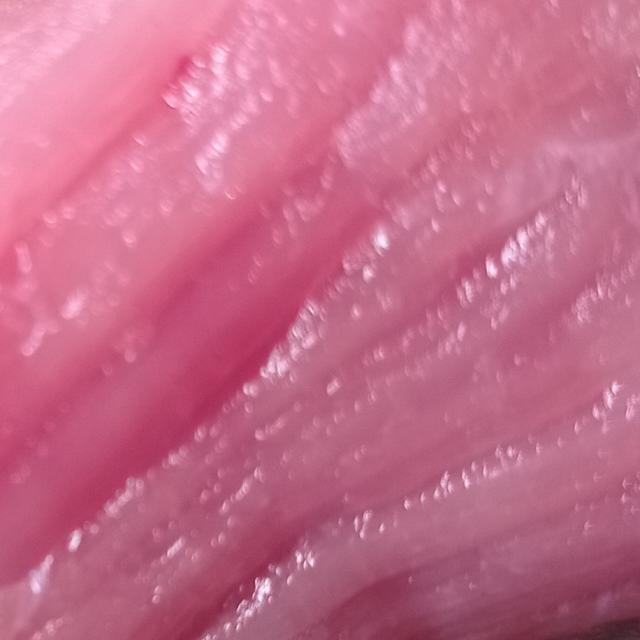Pork: (24, 62, 584, 588)
